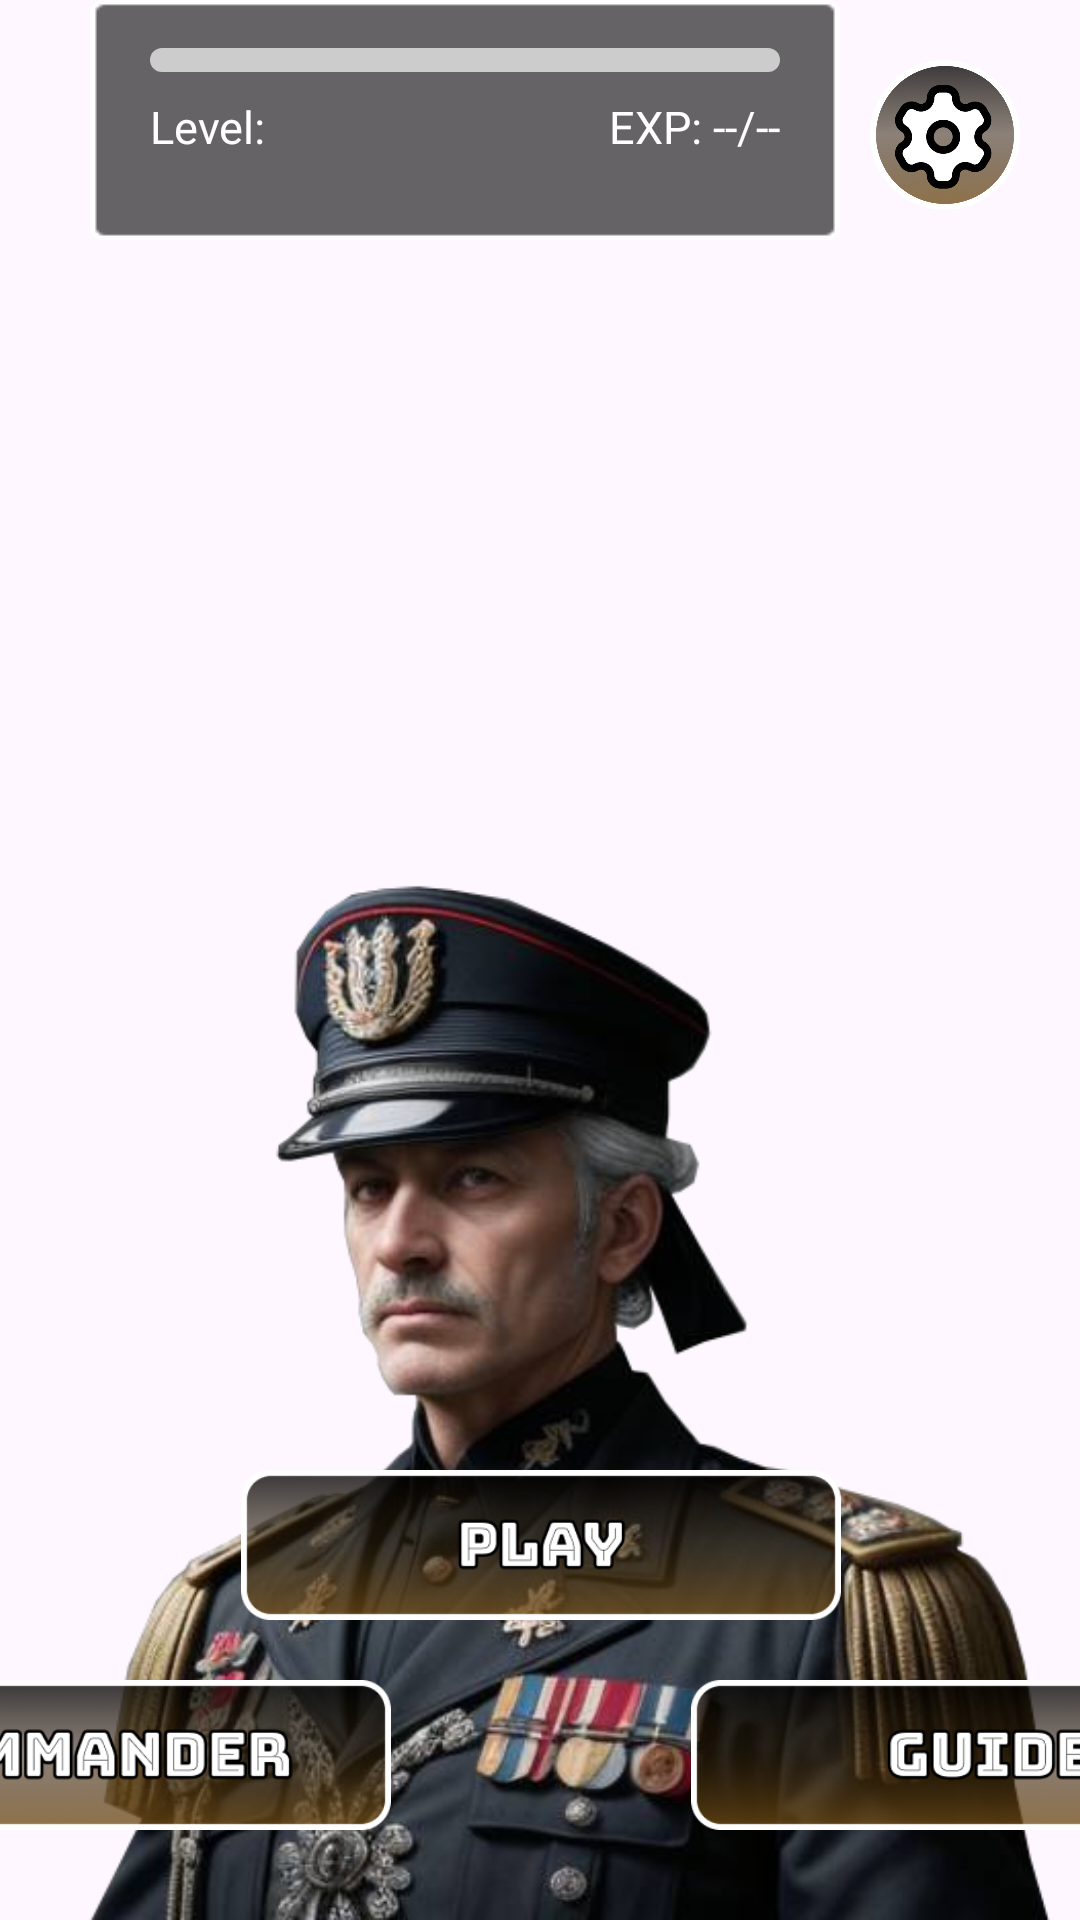

Icon click points for this 1080w x 1920h phone screenshot, format [x,y]:
setting: [945,135]
